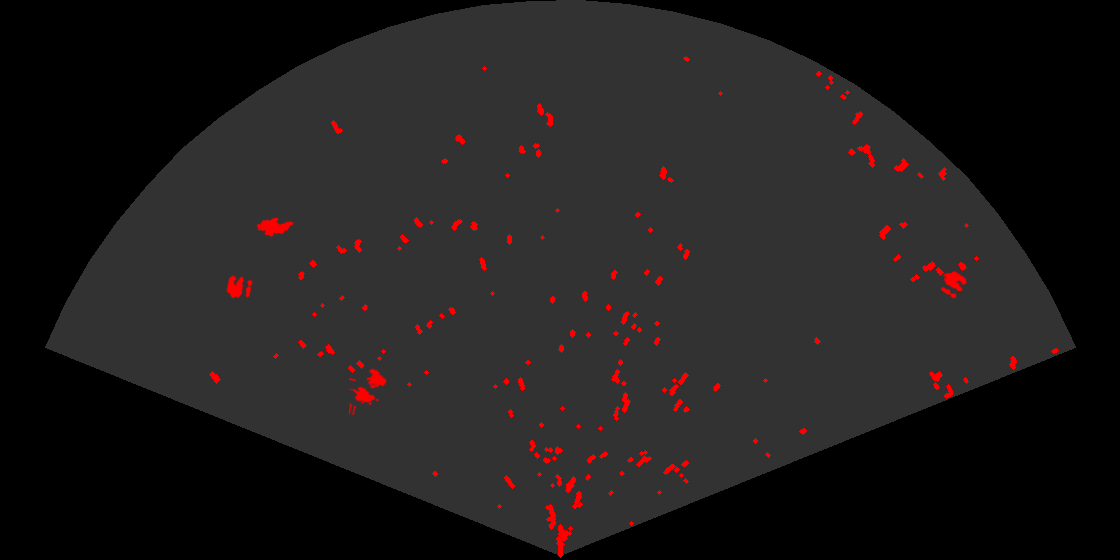AUV: (255, 216, 296, 239)
ball: (939, 269, 969, 300), (225, 273, 254, 300)
cage: (349, 367, 389, 415)
